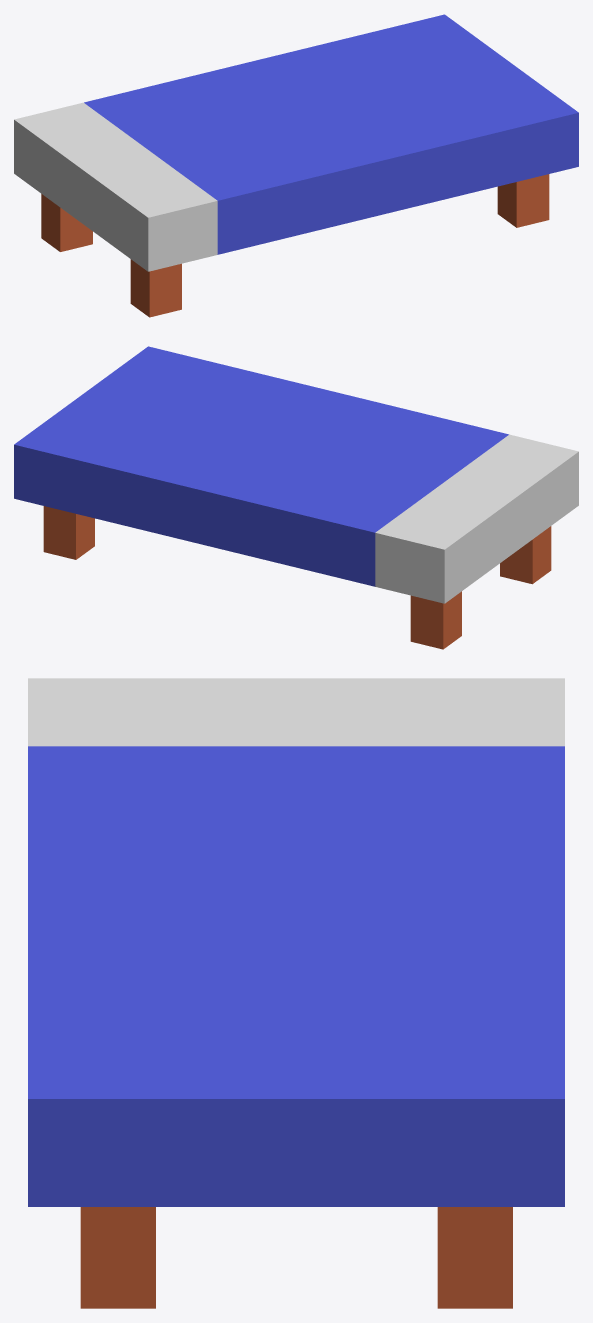
File: Bed.fbx
3 views of the same model, one above another, from view 1: azimuth 30°, elevation 25°; view 2: azimuth 150°, elevation 25°; view 3: azimuth 270°, elevation 25° (orthographic). The views are drawn at different scales.
Visible parts, largest first — view 1: Cube, Cube.004, Cube.001, Cube.003; view 2: Cube, Cube.003, Cube.002, Cube.004; view 3: Cube, Cube.002, Cube.001.
Boxes of the visible parts, <box> form: Cube: <box>14,14,578,271</box>; Cube.004: <box>130,259,181,317</box>; Cube.001: <box>497,174,549,227</box>; Cube.003: <box>41,194,92,251</box>; Cube: <box>14,346,578,603</box>; Cube.003: <box>410,591,461,649</box>; Cube.002: <box>43,506,94,559</box>; Cube.004: <box>500,526,551,584</box>; Cube: <box>28,678,564,1206</box>; Cube.002: <box>437,1207,512,1308</box>; Cube.001: <box>80,1207,155,1308</box>.
Size of the model in its own units: 528 by 132 by 285.
